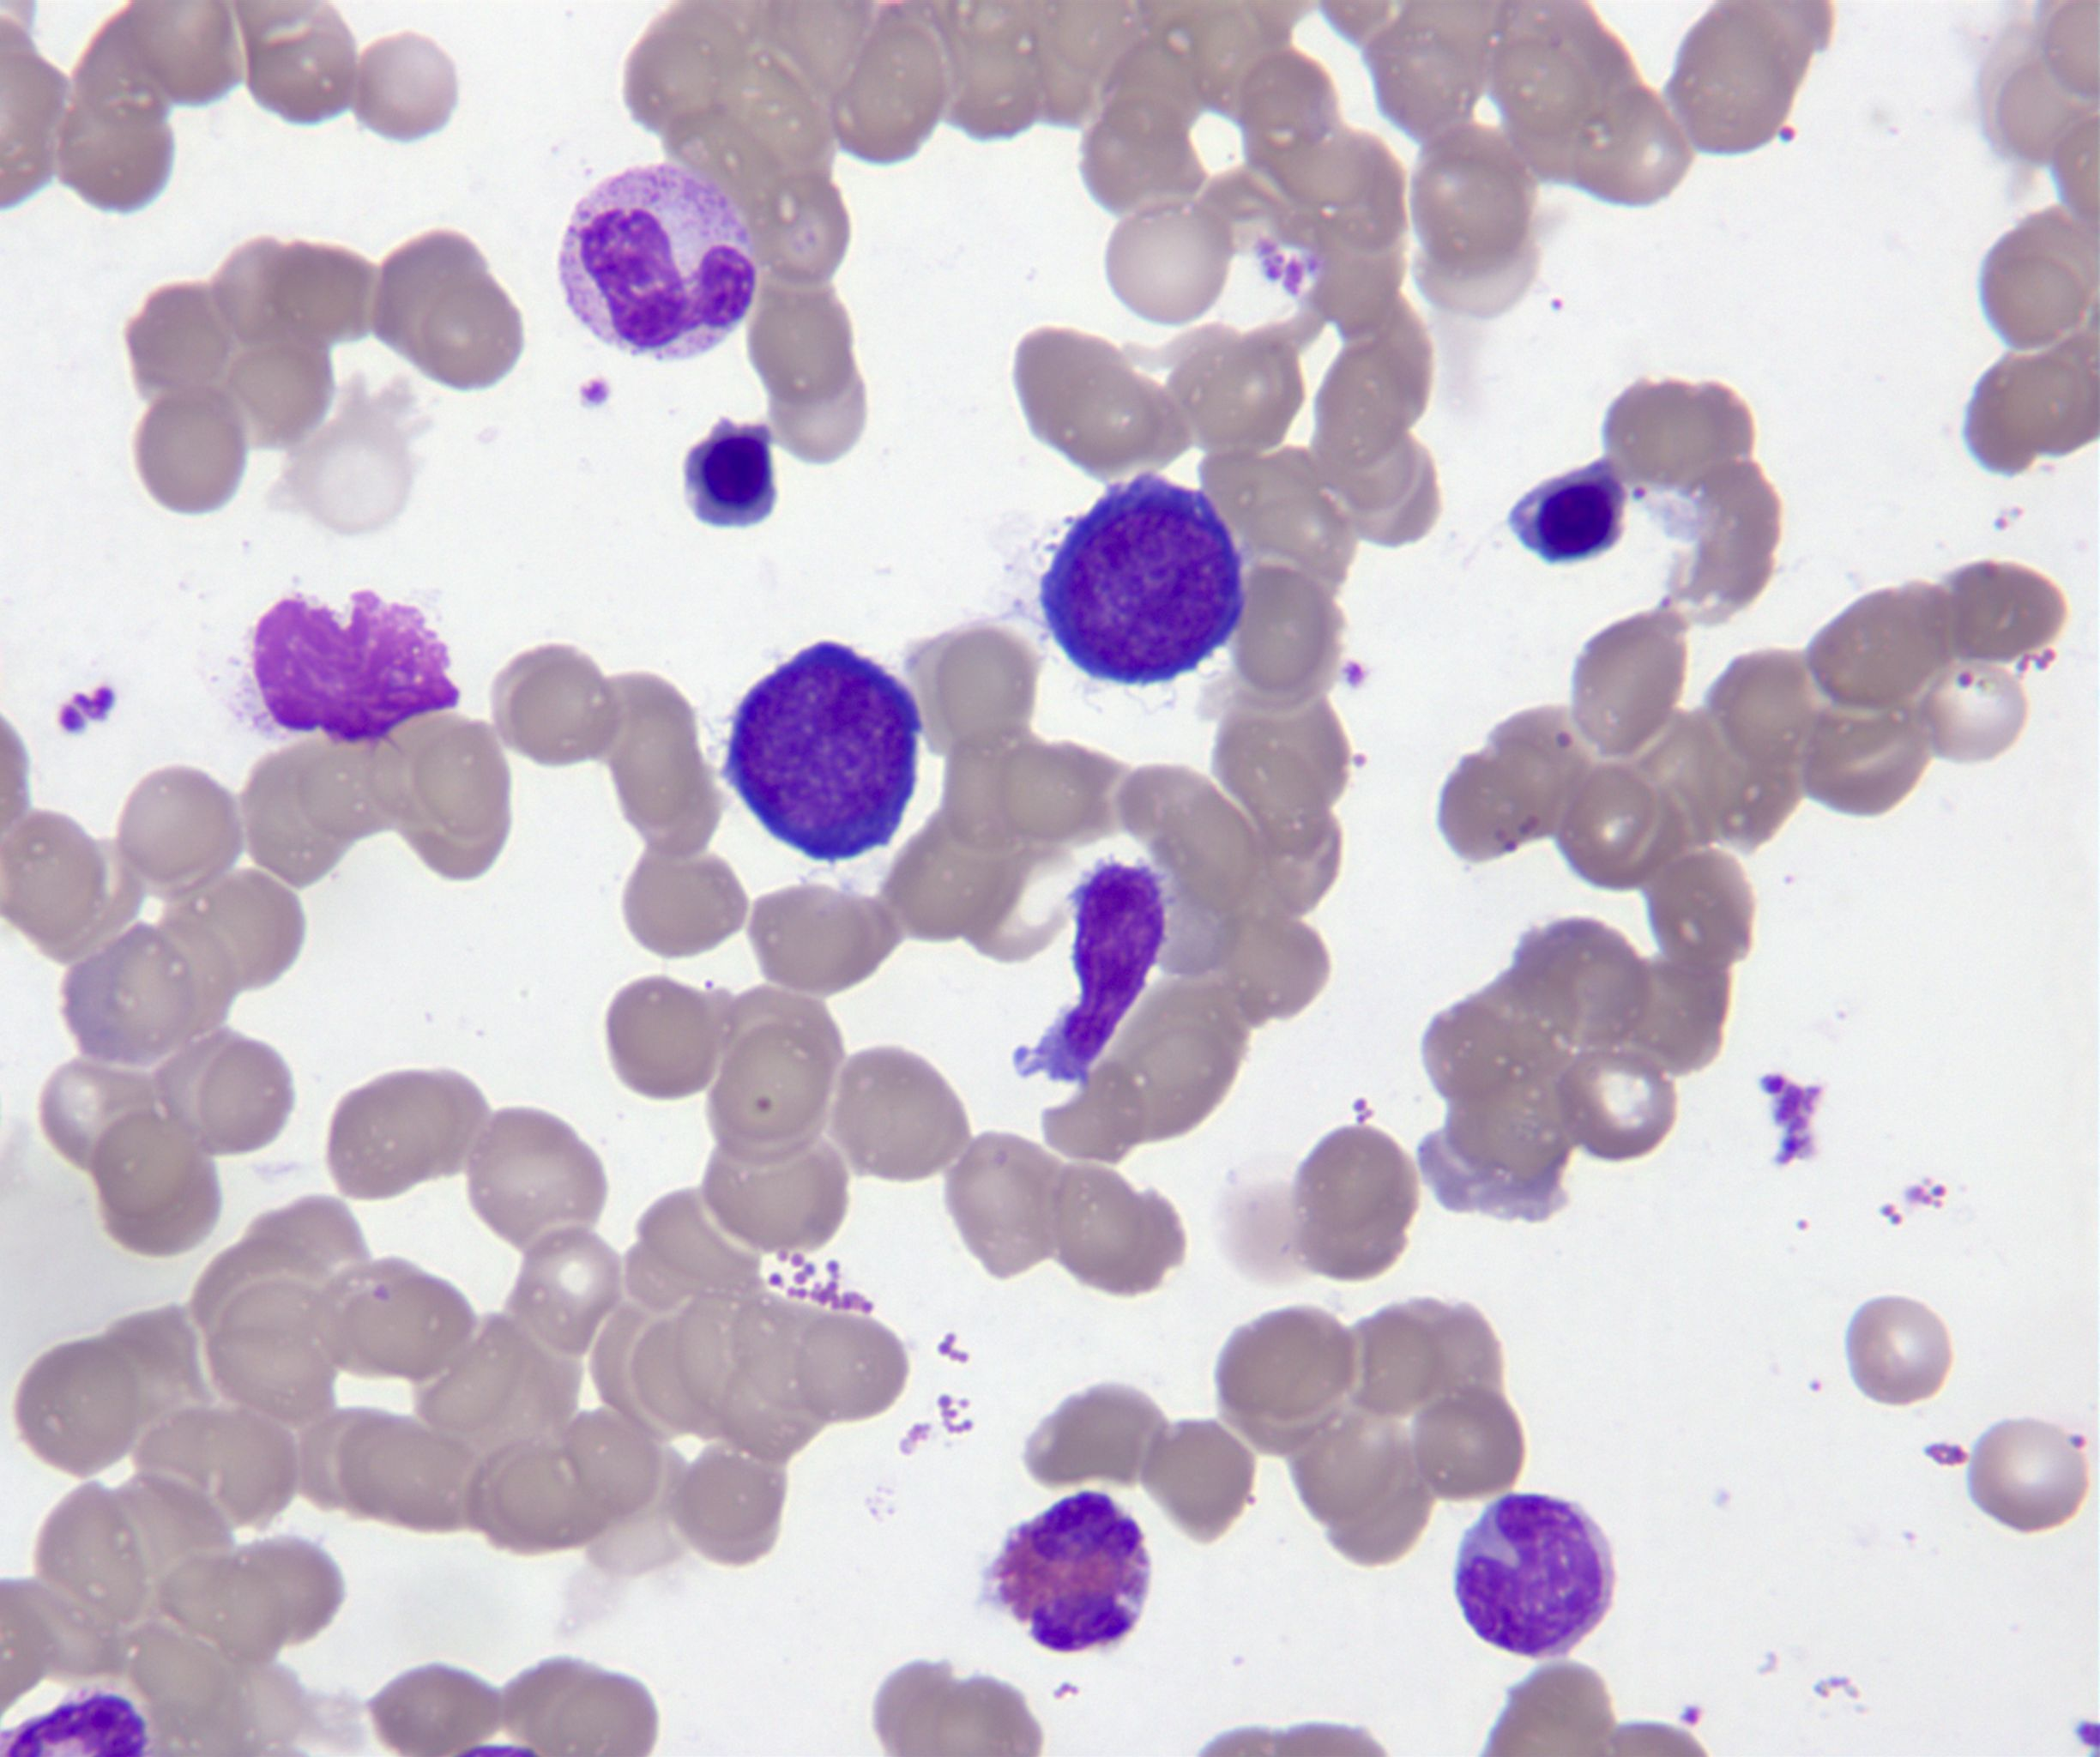22: (1036, 466, 1256, 689)
24: (720, 633, 928, 871), (1505, 454, 1633, 569), (678, 414, 781, 532)
32: (1008, 848, 1170, 1087)
4: (1449, 1488, 1619, 1668)
5: (556, 162, 760, 365)
E4: (975, 1490, 1155, 1659)
